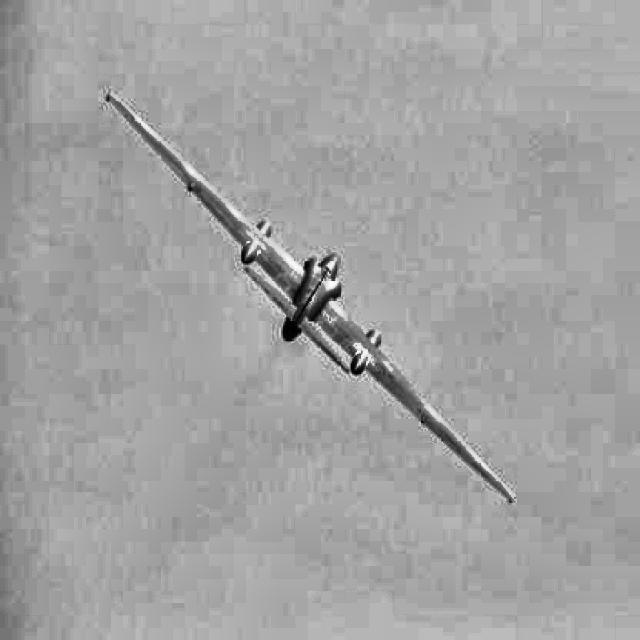U2: (107, 91, 516, 503)
